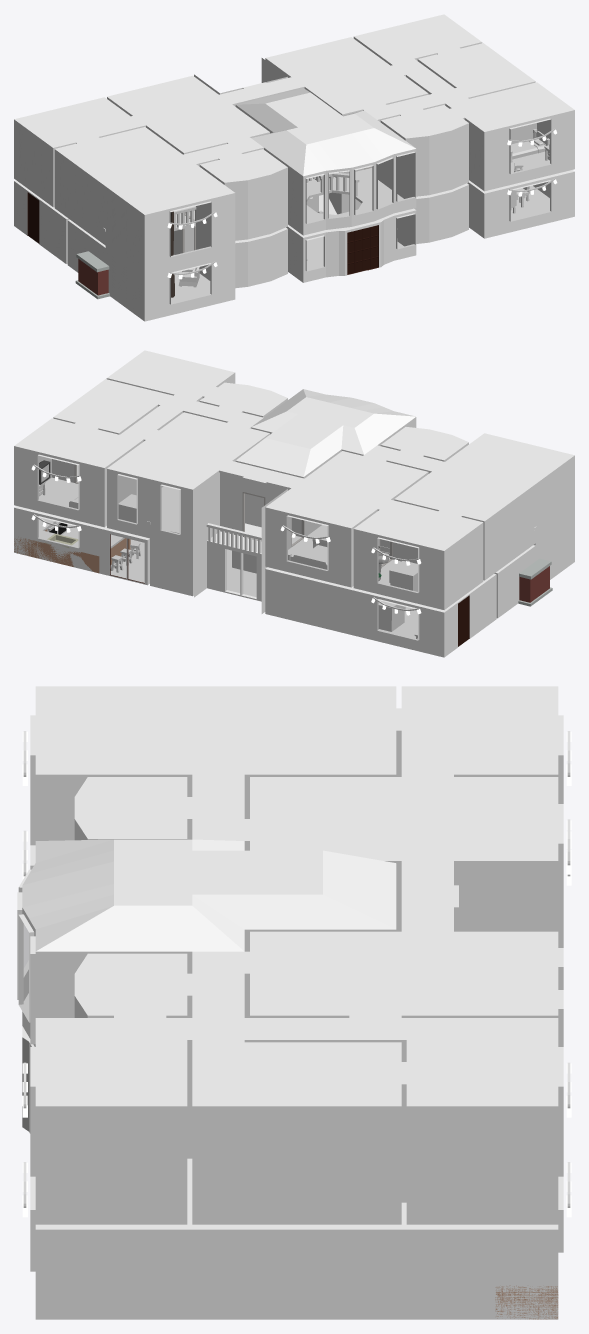
File: house.glb
The picture shows the model from 3 angles, top to bottom: view 1: azimuth 30°, elevation 25°; view 2: azimuth 150°, elevation 25°; view 3: azimuth 270°, elevation 25°; orthographic projection. The views are drawn at different scales.
Parts seen in each view (by area): view 1: House, Fireplace, Bed, Rug.001; view 2: House, Counter, Fireplace, Railing.005, Present.002, BedKing, Present.004, Doorway.027, Present.001; view 3: House, Counter.
Boxes of the visible parts, x1,y1,x2,y2 form: House: (14,14,574,321); Fireplace: (75,251,109,299); Bed: (510,129,549,162); Rug.001: (306,237,323,263); House: (14,350,574,657); Counter: (14,517,130,573); Fireplace: (518,558,552,606); Railing.005: (206,523,261,553); Present.002: (389,561,417,591); BedKing: (288,539,327,569); Present.004: (378,600,405,631); Doorway.027: (242,477,265,540); Present.001: (118,494,136,523); House: (17,686,563,1319); Counter: (413,1281,558,1319).
Size of the model in its own units: 19.54 by 5.1 by 10.6.
